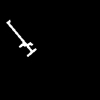double_crochet: (7, 20, 35, 55)
